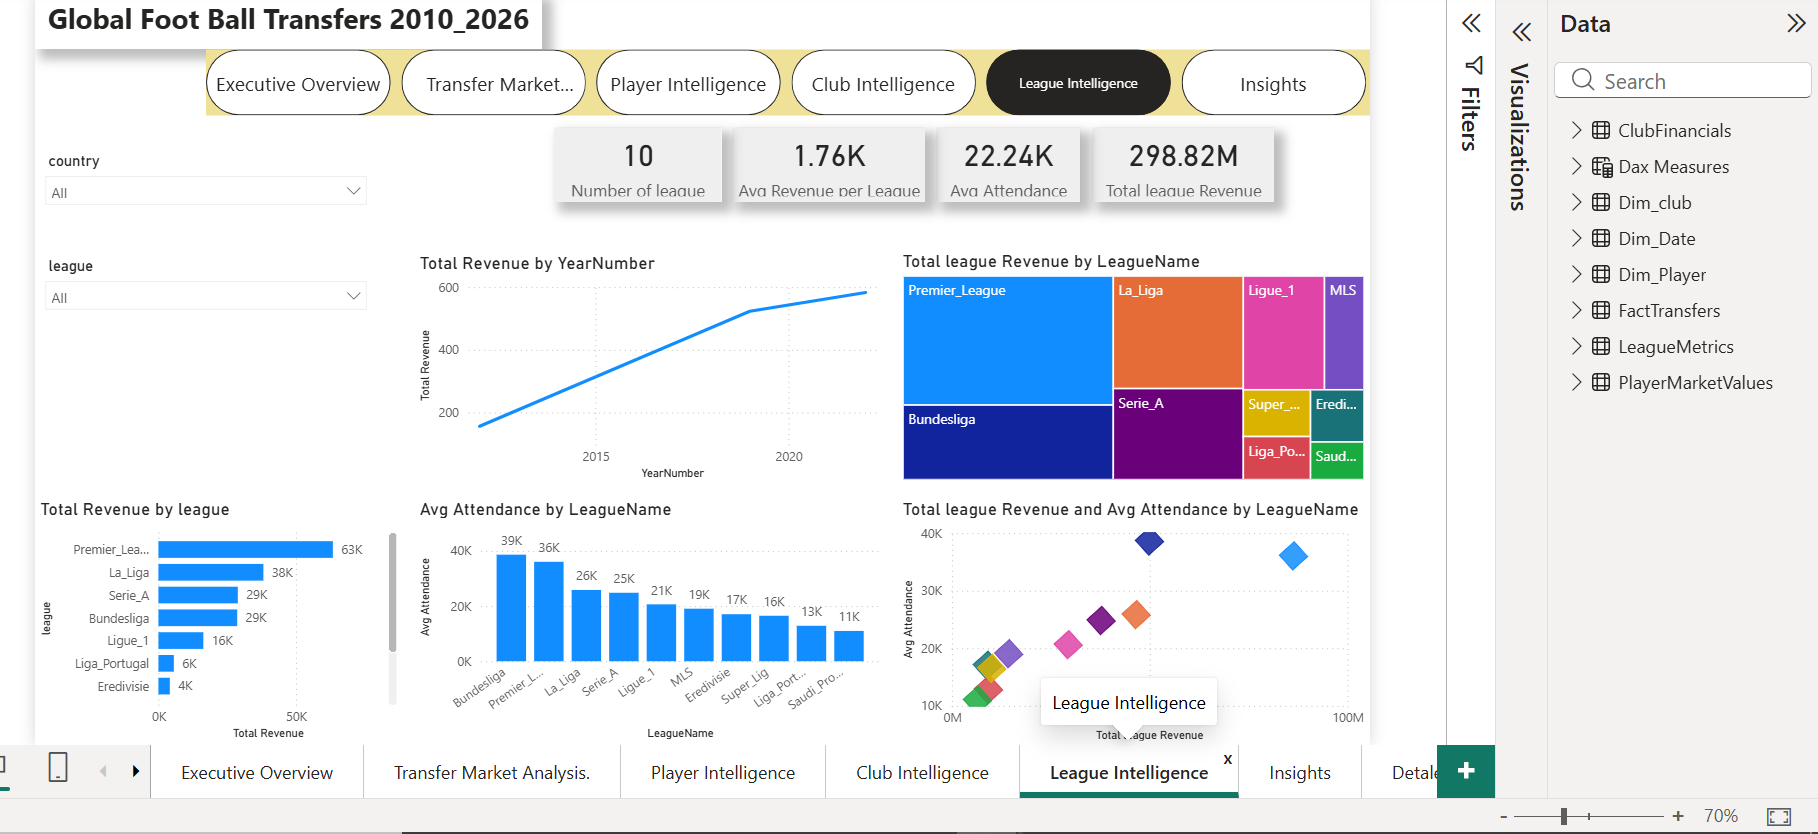

The dashboard page shown, as its layout file describes it:
{"tool":"powerbi","page":{"name":"League Intelligence","canvas":[1280,720],"ordinal":4},"visuals":[{"type":"card","fields":{"Values":["Dax Measures.Total league Revenue"]},"box":[1014.5,118.1,174.1,81.8],"z":0},{"type":"card","fields":{"Values":["Dax Measures.Avg Attendance"]},"box":[864.6,118.1,137.8,81.8],"z":1000},{"type":"card","fields":{"Values":["Dax Measures.Number of league"]},"box":[516.3,118.1,142.3,81.8],"z":2000},{"type":"card","fields":{"Values":["Dax Measures.Avg Revenue per League"]},"box":[669.3,118.1,184.7,81.8],"z":3000},{"type":"barChart","fields":{"Category":["Dim_club.league"],"Y":["Dax Measures.Total Revenue"]},"box":[0,482.6,351.7,236.2],"z":4000},{"type":"columnChart","fields":{"Category":["LeagueMetrics.LeagueName"],"Y":["Dax Measures.Avg Attendance"]},"box":[363.6,482.6,450.3,236.2],"z":5000},{"type":"scatterChart","fields":{"X":["Dax Measures.Total league Revenue"],"Y":["Dax Measures.Avg Attendance"],"Category":["LeagueMetrics.LeagueName"]},"box":[827.5,482.6,452,237.9],"z":6000},{"type":"treemap","fields":{"Group":["LeagueMetrics.LeagueName"],"Values":["Dax Measures.Total league Revenue"]},"box":[827.5,246.4,452,224.3],"z":7000},{"type":"lineChart","fields":{"Category":["LeagueMetrics.YearNumber"],"Y":["Dax Measures.Total Revenue"]},"box":[363.6,248.1,450.3,222.6],"z":8000},{"type":"slicer","fields":{"Values":["ClubFinancials.YearNumber"]},"box":[0,49.3,327.9,85],"z":9000},{"type":"slicer","fields":{"Values":["Dim_club.country"]},"box":[0,146.1,327.9,85],"z":10000},{"type":"slicer","fields":{"Values":["Dim_club.league"]},"box":[0,248.1,327.9,85],"z":11000},{"type":"textbox","box":[493.6,0,407.3,81.8],"z":11001}]}

Visuals, with their boxes on the page's 1280x720 design canvas (x1, y1, x2, y2). These are canvas units, not pixel positions in the 1818x834 screenshot, which may show the page scaled, cropped or inside an application window:
card - Dax Measures.Total league Revenue: (x1=1014, y1=118, x2=1189, y2=200)
card - Dax Measures.Avg Attendance: (x1=865, y1=118, x2=1002, y2=200)
card - Dax Measures.Number of league: (x1=516, y1=118, x2=659, y2=200)
card - Dax Measures.Avg Revenue per League: (x1=669, y1=118, x2=854, y2=200)
barChart - Dim_club.league x Dax Measures.Total Revenue: (x1=0, y1=483, x2=352, y2=719)
columnChart - LeagueMetrics.LeagueName x Dax Measures.Avg Attendance: (x1=364, y1=483, x2=814, y2=719)
scatterChart - Dax Measures.Total league Revenue x Dax Measures.Avg Attendance: (x1=828, y1=483, x2=1280, y2=720)
treemap - LeagueMetrics.LeagueName x Dax Measures.Total league Revenue: (x1=828, y1=246, x2=1280, y2=471)
lineChart - LeagueMetrics.YearNumber x Dax Measures.Total Revenue: (x1=364, y1=248, x2=814, y2=471)
slicer - ClubFinancials.YearNumber: (x1=0, y1=49, x2=328, y2=134)
slicer - Dim_club.country: (x1=0, y1=146, x2=328, y2=231)
slicer - Dim_club.league: (x1=0, y1=248, x2=328, y2=333)
textbox: (x1=494, y1=0, x2=901, y2=82)
